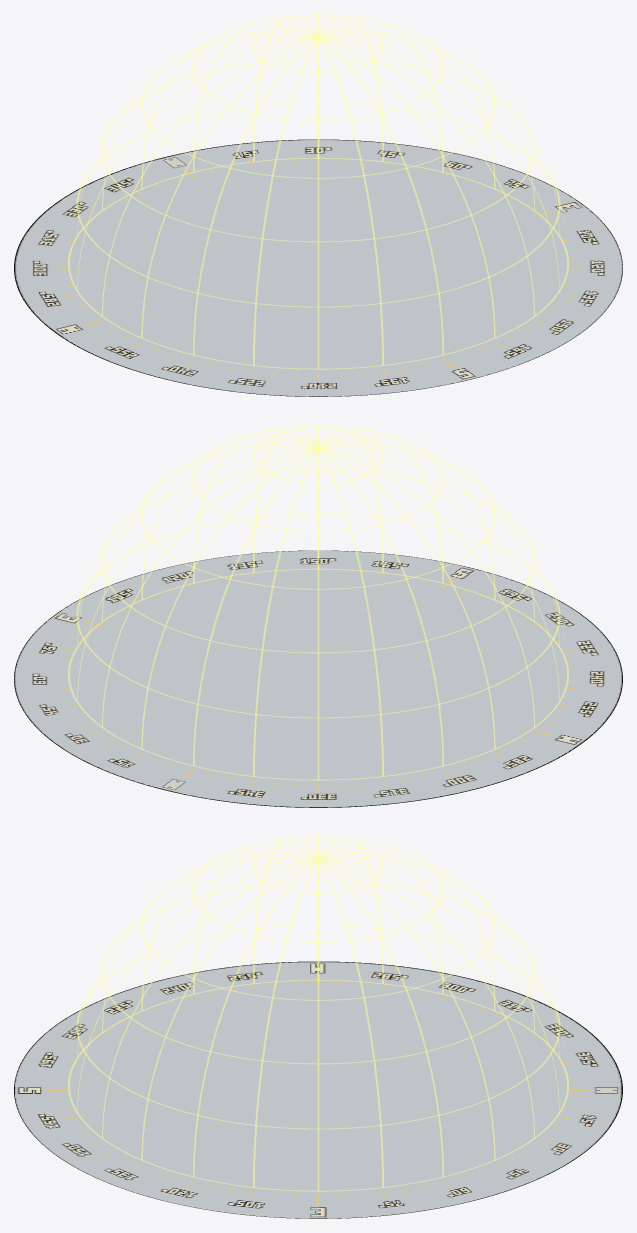
Rendered from scene_dome.glb.
3 renders of one model, top to bottom at view 1: azimuth 30°, elevation 25°; view 2: azimuth 150°, elevation 25°; view 3: azimuth 270°, elevation 25°, orthographic.
Bounding box in the file's own units: 2.44 × 1.02 × 2.44.
2 materials, 1 textured.
